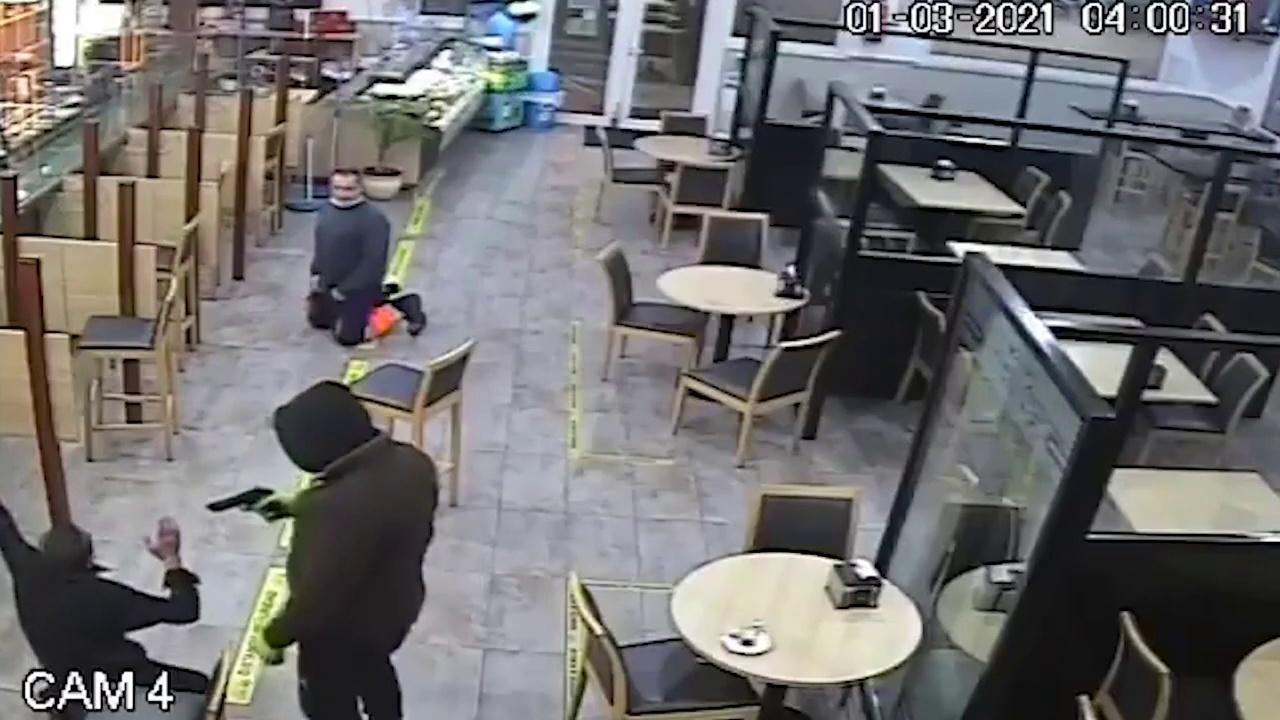Guns perspective: (185, 467, 294, 536)
